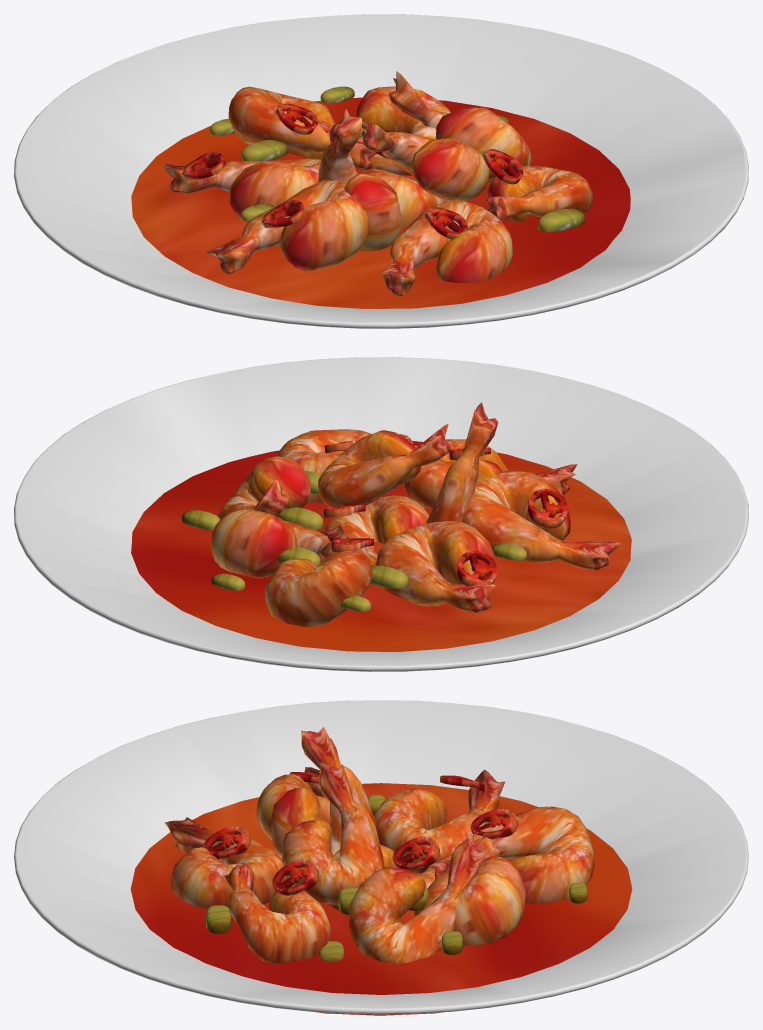
File: seafood_shrimp.glb
3 renders of one model, top to bottom at view 1: azimuth 30°, elevation 25°; view 2: azimuth 150°, elevation 25°; view 3: azimuth 270°, elevation 25°, orthographic.
Parts seen in each view (by area): view 1: Object_328, Object_330, Object_334; view 2: Object_328, Object_330, Object_334; view 3: Object_328, Object_330, Object_334.
Part boxes in pixels (x1,y1,x2,y2): Object_328: (14, 14, 748, 328); Object_330: (131, 71, 630, 308); Object_334: (182, 128, 523, 239); Object_328: (14, 357, 748, 671); Object_330: (131, 402, 631, 651); Object_334: (324, 439, 567, 586); Object_328: (14, 700, 748, 1014); Object_330: (130, 726, 632, 1015); Object_334: (203, 772, 485, 895).
Size of the model in its own units: 2.39 by 0.5914 by 2.39.
3 materials, 2 textured.
